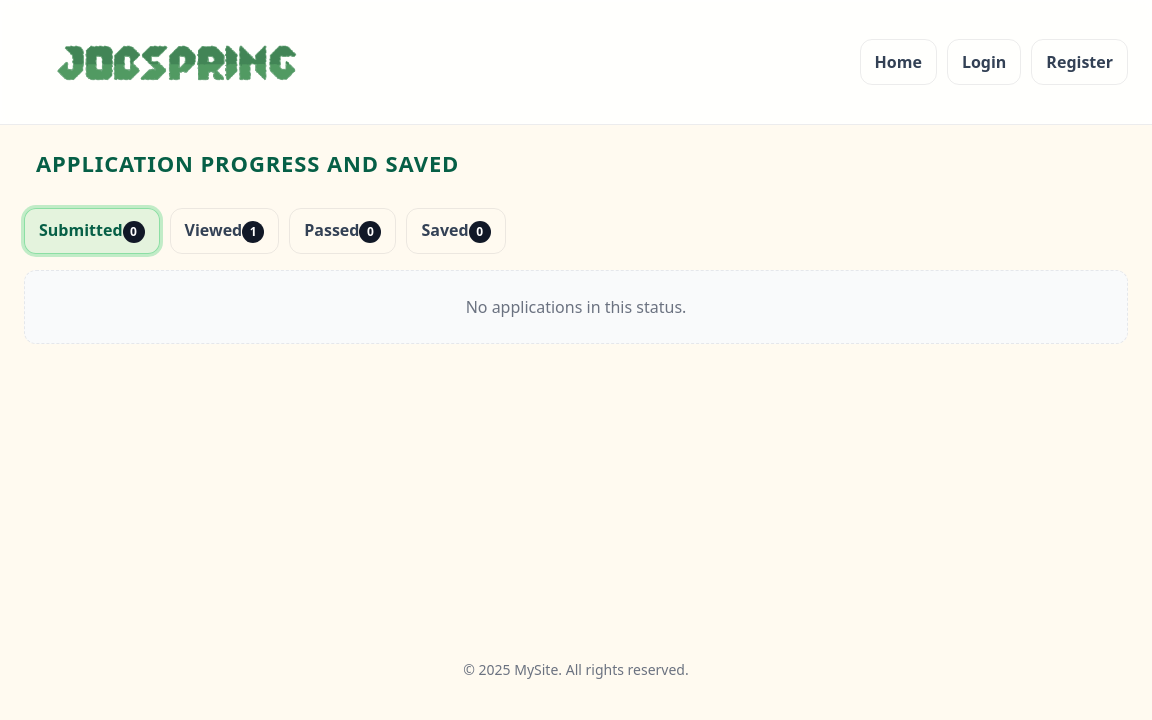
Test case: switches to viewed tab and shows viewed applications
The width and height of the screenshot is (1152, 720).
Click the tab "Viewed 1" at (224, 231), box [170, 208, 279, 254]
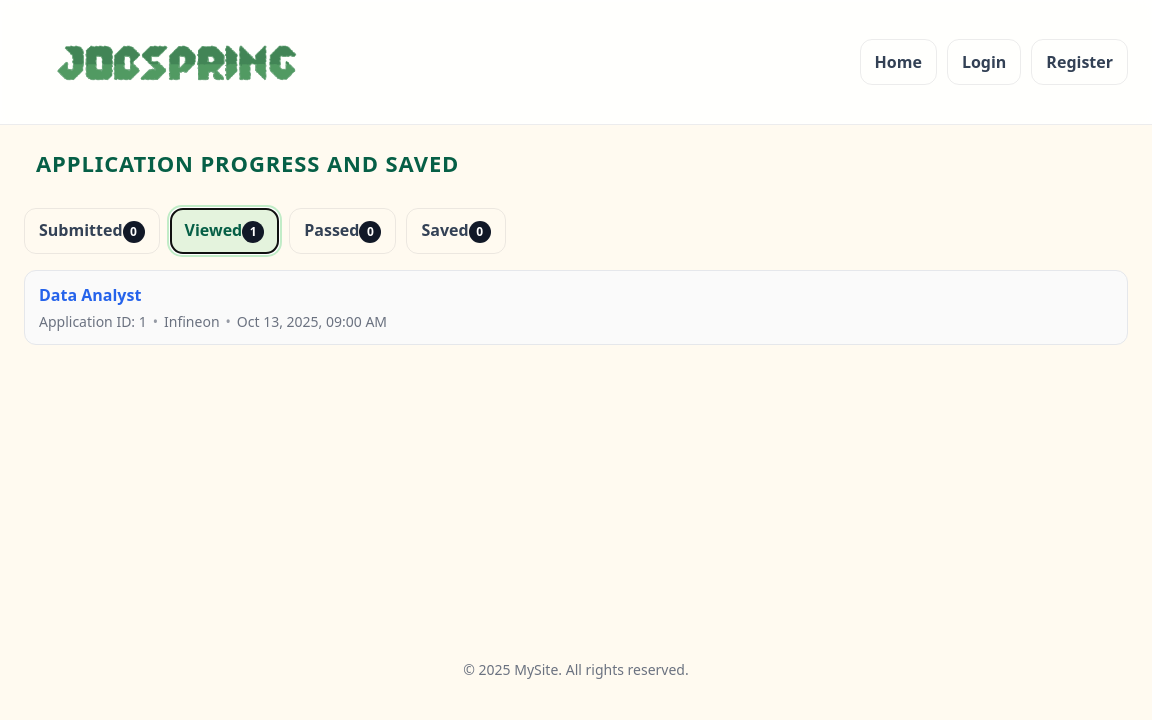
Result: the link "Data Analyst" is shown at [39, 284, 141, 306]
Result: the text "Infineon" is shown at [164, 310, 220, 332]
